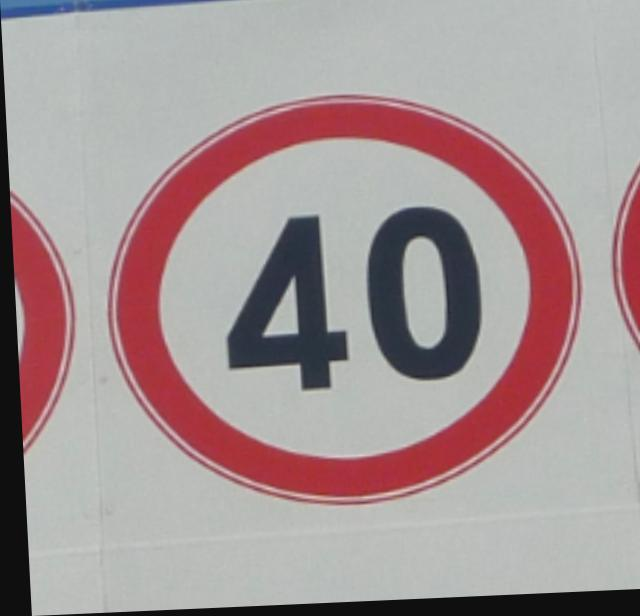limit40: (93, 84, 590, 519)
